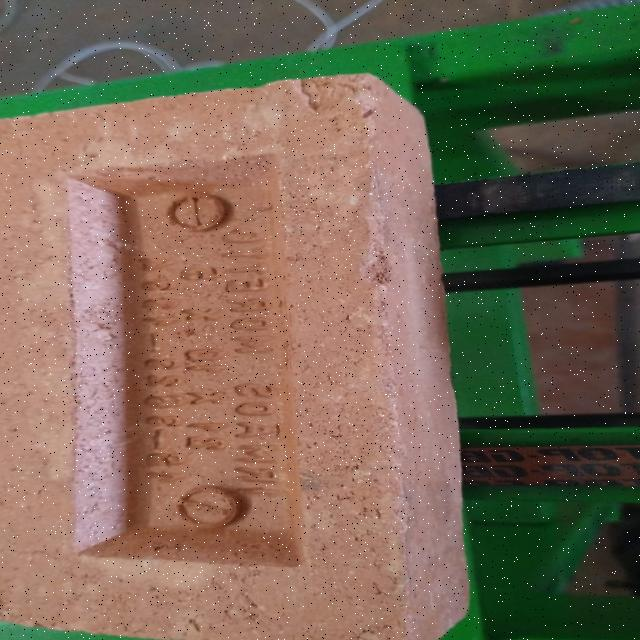bricks: (0, 74, 474, 640)
